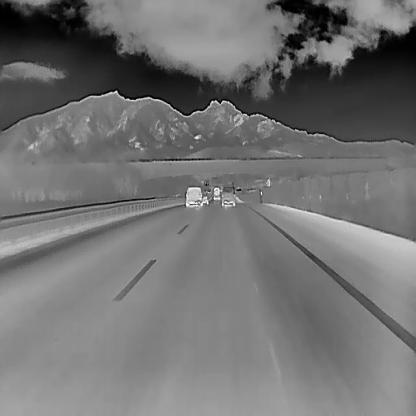car: (186, 185, 202, 208), (220, 184, 235, 207), (212, 185, 220, 201), (201, 190, 209, 205)
